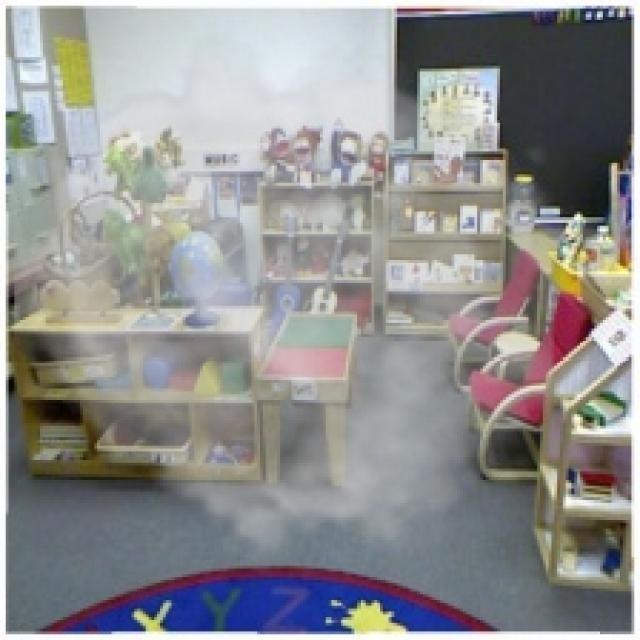Smoke: (14, 32, 554, 574)
